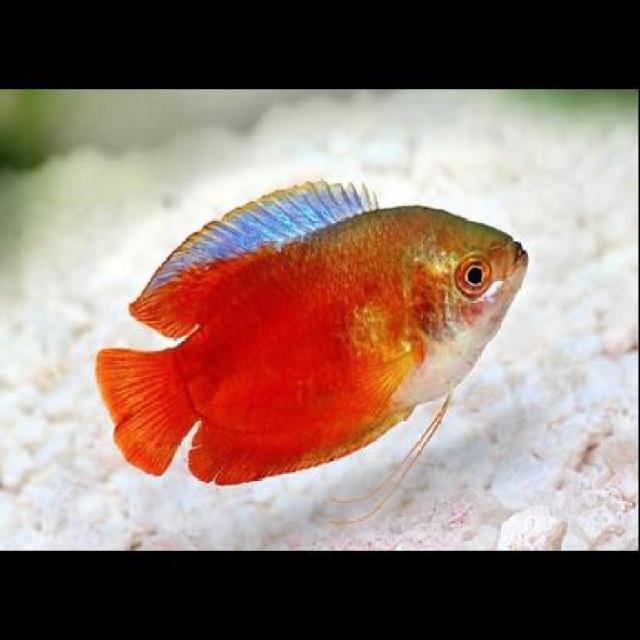Gourami: (100, 175, 528, 480)
